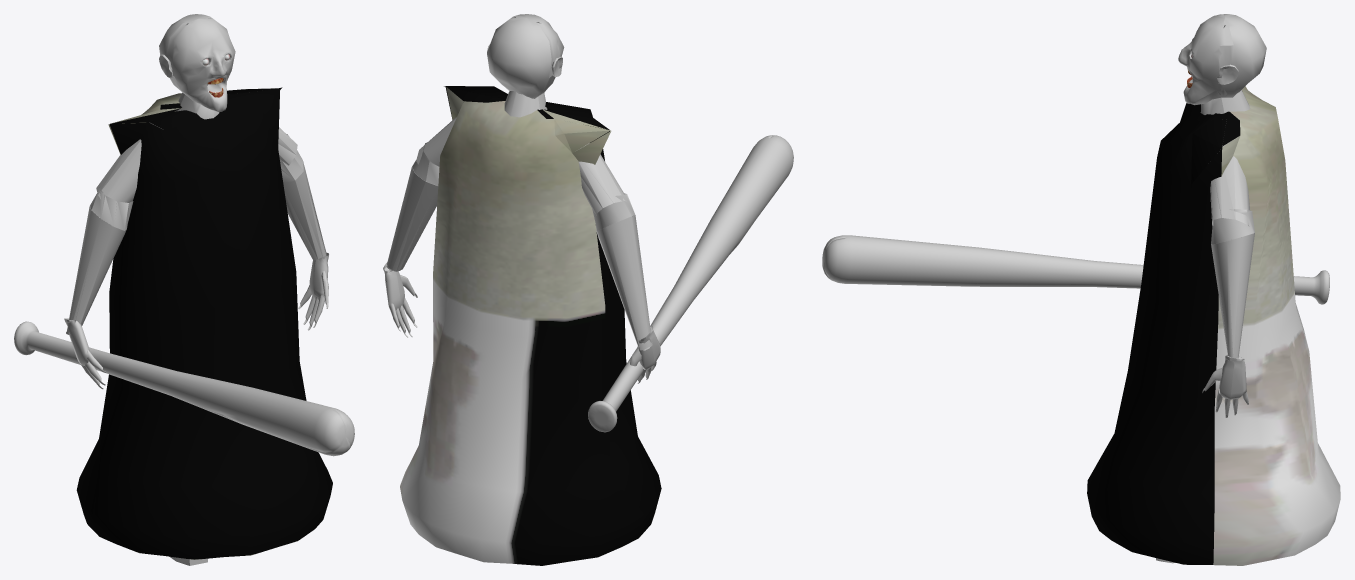
File: granny.obj
3 renders of one model, left to right at view 1: azimuth 30°, elevation 25°; view 2: azimuth 150°, elevation 25°; view 3: azimuth 270°, elevation 25°, orthographic. The views are drawn at different scales.
Parts seen in each view (by area): view 1: Torso1, Handle1, Head1, Leftlowerarm1, Leftlowerarm2, Leftupperarm1, RightHand1, LeftHand1, Leftupperarm2; view 2: Torso1, Handle1, Head1, Leftlowerarm1, Leftlowerarm2, Leftupperarm1, RightHand1, LeftHand1, Leftupperarm2; view 3: Torso1, Handle1, Head1, Leftlowerarm2, Leftupperarm2, RightHand1.
Boxes of the visible parts, bbox=[...] form: Torso1: bbox=[76, 87, 332, 559]; Handle1: bbox=[14, 321, 354, 456]; Head1: bbox=[159, 14, 235, 119]; Leftlowerarm1: bbox=[66, 187, 133, 335]; Leftlowerarm2: bbox=[280, 134, 326, 260]; Leftupperarm1: bbox=[96, 122, 161, 202]; RightHand1: bbox=[298, 252, 328, 330]; LeftHand1: bbox=[64, 318, 106, 389]; Leftupperarm2: bbox=[278, 127, 297, 165]; Torso1: bbox=[400, 86, 661, 565]; Handle1: bbox=[588, 135, 793, 432]; Head1: bbox=[487, 14, 564, 117]; Leftlowerarm1: bbox=[592, 193, 652, 350]; Leftlowerarm2: bbox=[386, 142, 439, 271]; Leftupperarm1: bbox=[578, 121, 626, 215]; RightHand1: bbox=[383, 262, 417, 337]; LeftHand1: bbox=[630, 326, 660, 383]; Leftupperarm2: bbox=[416, 117, 456, 166]; Torso1: bbox=[1087, 86, 1340, 565]; Handle1: bbox=[822, 235, 1329, 304]; Head1: bbox=[1178, 14, 1266, 114]; Leftlowerarm2: bbox=[1211, 209, 1254, 358]; Leftupperarm2: bbox=[1210, 137, 1250, 226]; RightHand1: bbox=[1202, 355, 1248, 417].
Size of the model in its own units: 3.25 by 5.94 by 5.35.
